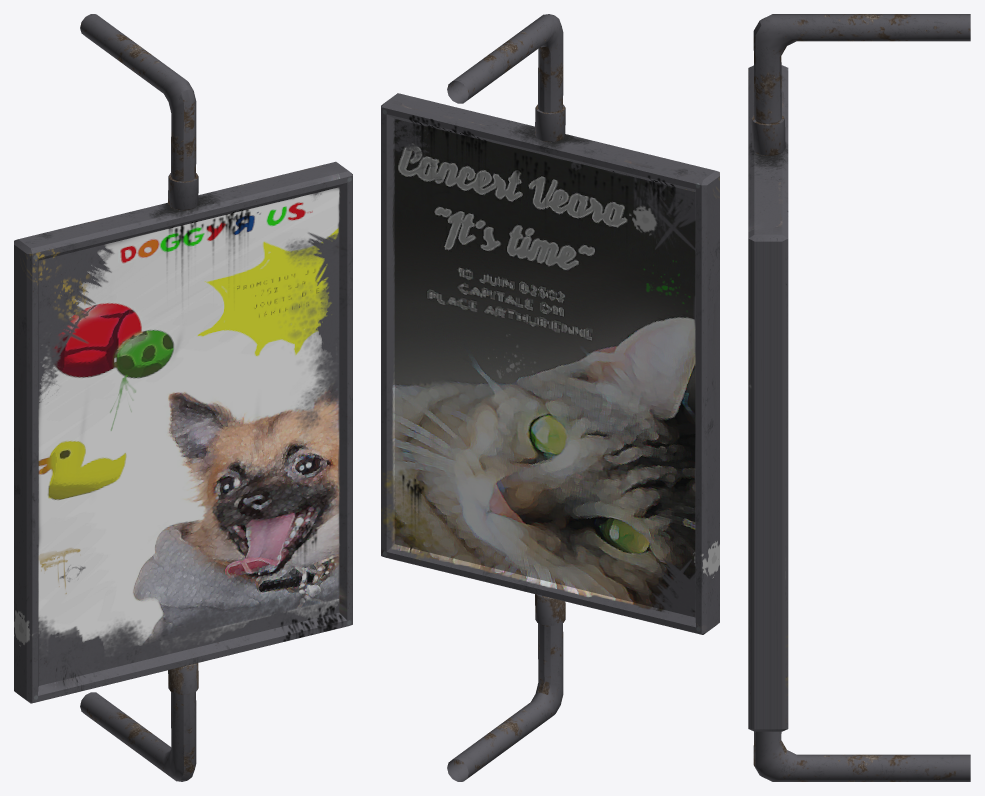
The model's file is Panneau_PublicitaireA01.FBX.
The picture shows the model from 3 angles, left to right: view 1: azimuth 30°, elevation 25°; view 2: azimuth 150°, elevation 25°; view 3: azimuth 270°, elevation 25°; orthographic projection. The views are drawn at different scales.
Visible parts, largest first — view 1: Panneau_PublicitaireA_01, Tuyau_PanneauPubA_001; view 2: Panneau_PublicitaireA_01, Tuyau_PanneauPubA_001; view 3: Panneau_PublicitaireA_01, Tuyau_PanneauPubA_001.
Boxes of the visible parts, x1=… form: Panneau_PublicitaireA_01: x1=14, y1=161, x2=352, y2=703; Tuyau_PanneauPubA_001: x1=80, y1=14, x2=198, y2=781; Panneau_PublicitaireA_01: x1=381, y1=93, x2=719, y2=634; Tuyau_PanneauPubA_001: x1=447, y1=14, x2=565, y2=781; Panneau_PublicitaireA_01: x1=748, y1=65, x2=788, y2=731; Tuyau_PanneauPubA_001: x1=751, y1=14, x2=970, y2=781.
Size of the model in its own units: 60 by 123 by 32.4.
2 materials, 2 textured.
